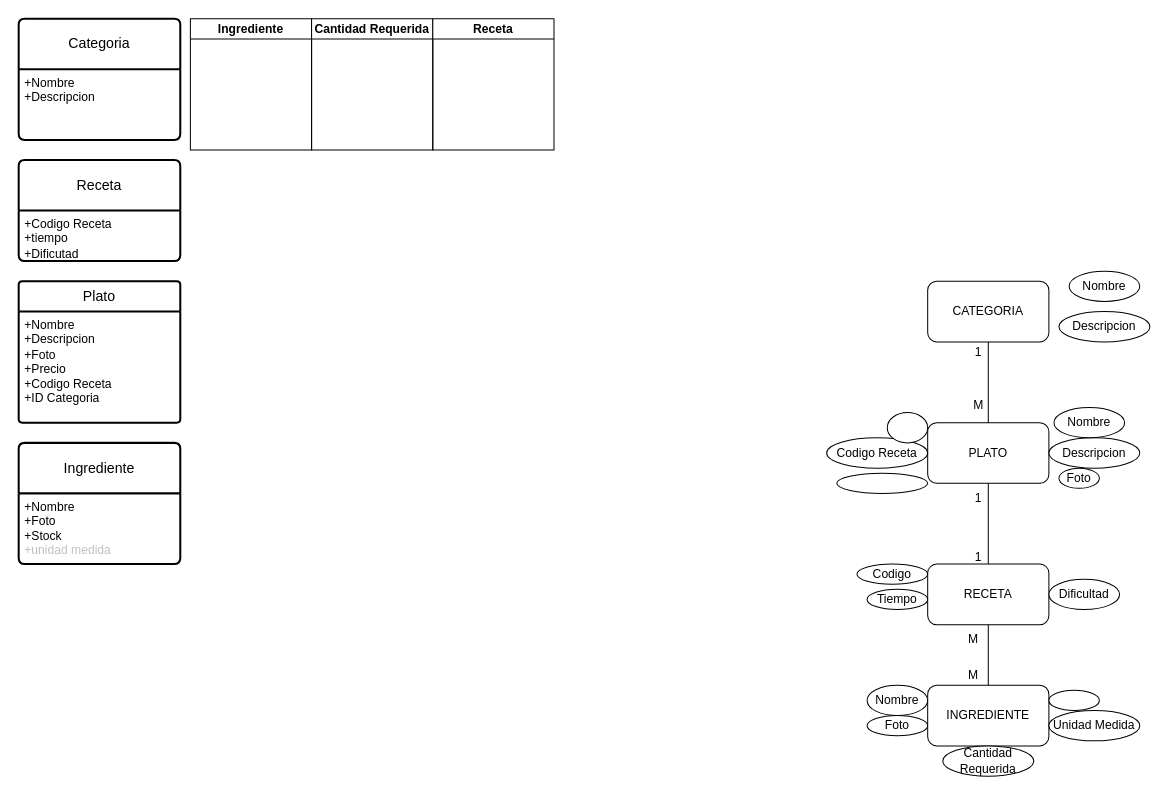
This 1168x794 diagram has some shape labels left out. The shapes that lost their labels are listed below. From the top down, each one's centre as x and y in pixels, then its label:
At point (907, 427): "Precio".
At point (882, 482): "ID Categoria".
At point (1073, 700): "Stock".
